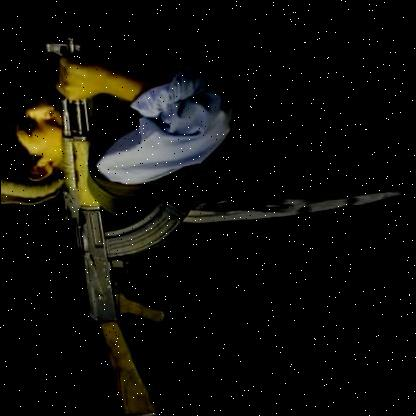rifle: (18, 22, 211, 416)
